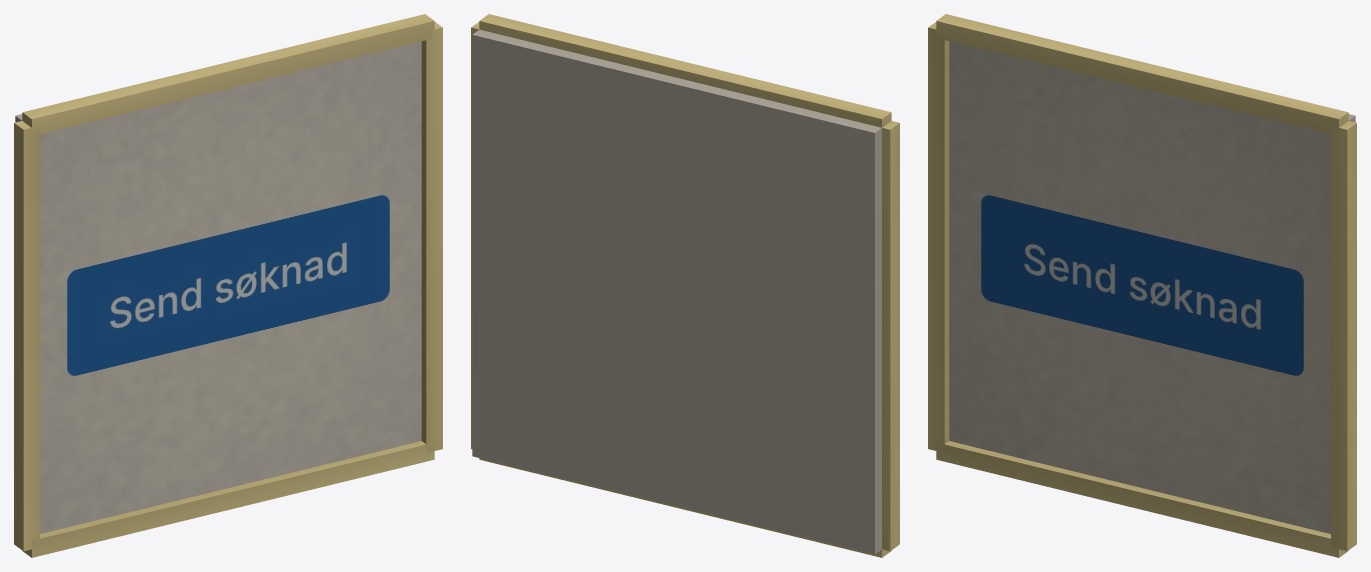
File: gallery_button.glb
3 renders of one model, left to right at view 1: azimuth 30°, elevation 25°; view 2: azimuth 150°, elevation 25°; view 3: azimuth 330°, elevation 25°, orthographic.
Visible parts, largest first — view 1: plate; view 2: plate; view 3: plate.
Boxes of the visible parts, bbox=[...] form: plate: bbox=[14, 14, 442, 557]; plate: bbox=[471, 14, 899, 557]; plate: bbox=[928, 14, 1356, 557].
Bounding box in the file's own units: 0.51 × 0.51 × 0.035.
2 materials, 1 textured.
